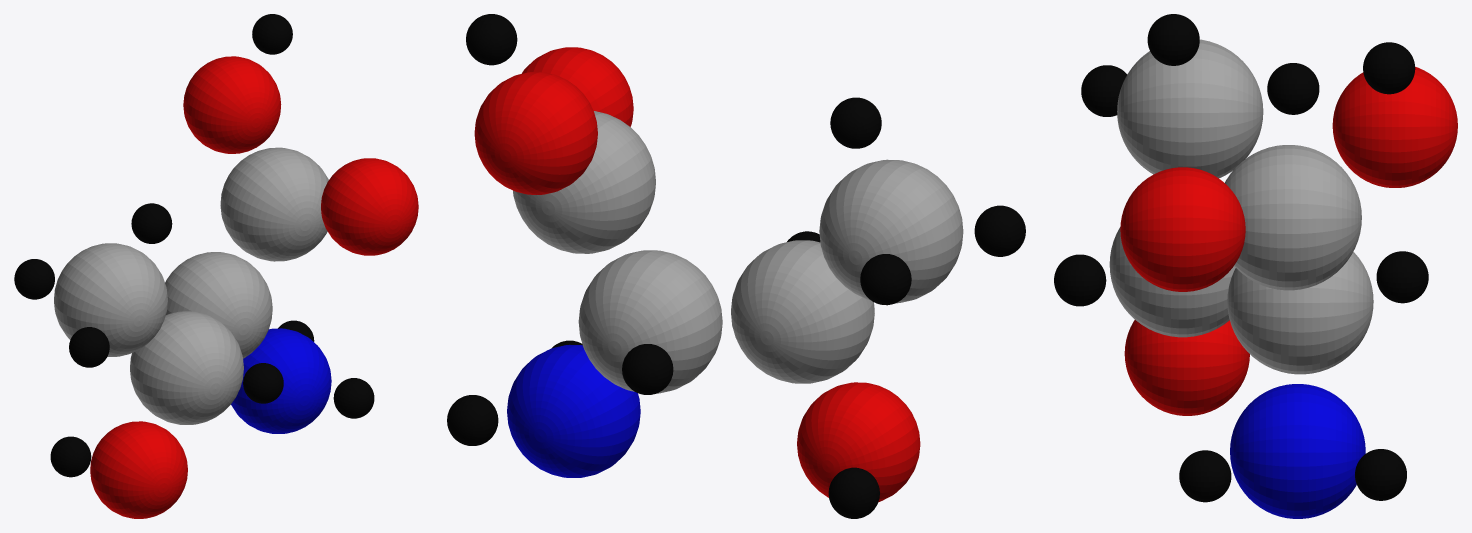
Rendered from Threonine.glb.
The picture shows the model from 3 angles, left to right: view 1: azimuth 30°, elevation 25°; view 2: azimuth 150°, elevation 25°; view 3: azimuth 270°, elevation 25°; orthographic projection. The views are drawn at different scales.
Parts seen in each view (by area): view 1: world; view 2: world; view 3: world.
Boxes of the visible parts, <box> form: world: <box>14,14,418,518</box>; world: <box>447,14,1025,518</box>; world: <box>1054,14,1457,518</box>.
Bounding box in the file's own units: 5.24 × 5.26 × 3.87.
